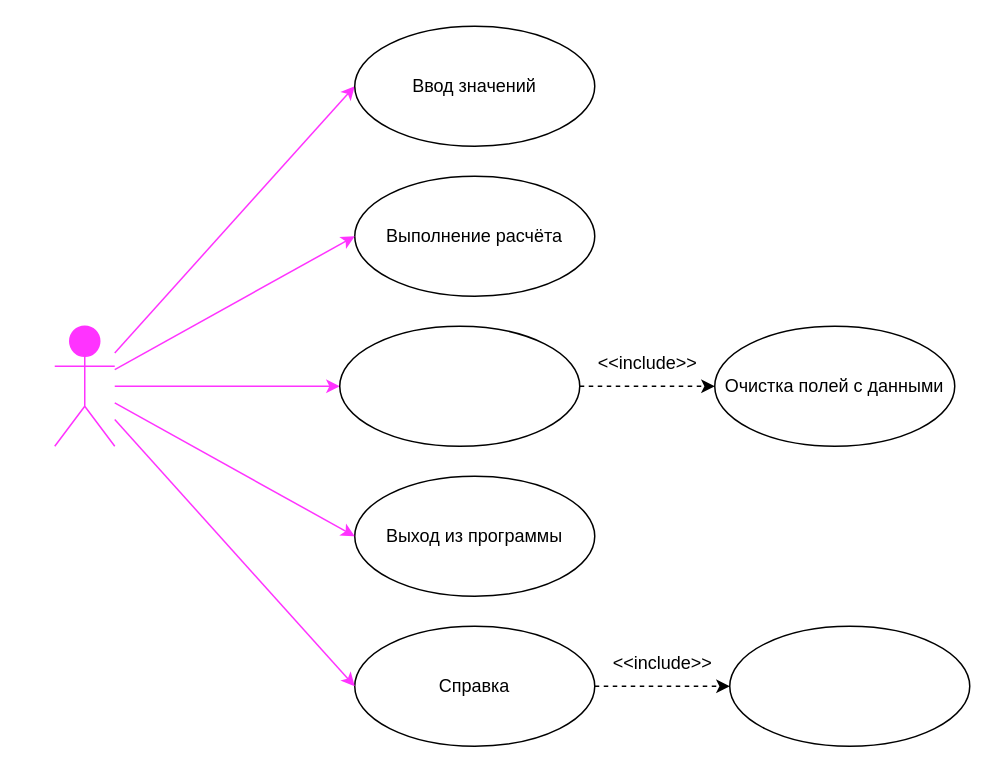
This 996x773 diagram has some shape labels left out. The centre of each missing label's shape, as x and y in pixels:
Меню: pixel 459 385
Пользователь: pixel 84 385
Просмотр информации о разработчике: pixel 849 685
